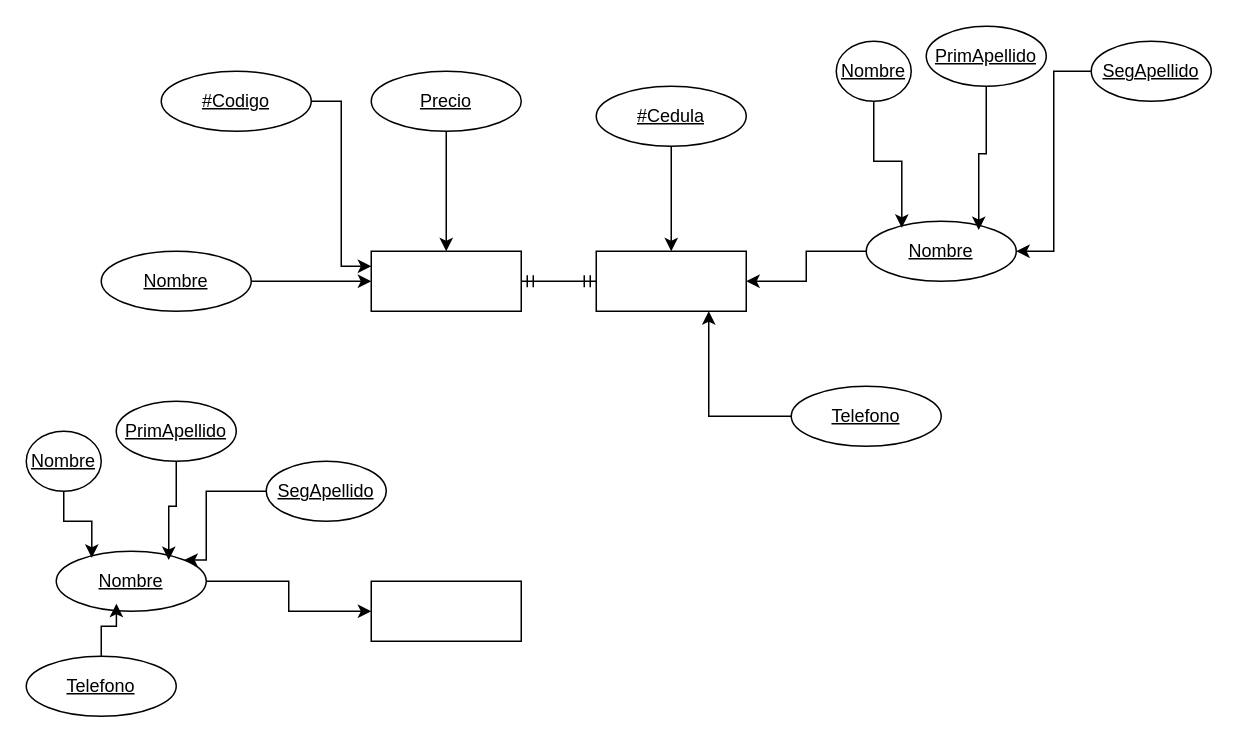
The diagram is 1238 pixels wide and 743 high, and some of its shapes have lost their labels. The shapes that lost their labels are listed below. From the top down, each one's centre as x and y in pixels, then its label:
At [445,280]: "Curso".
At [670,280]: "Instructor".
At [445,610]: "Estudiante".
